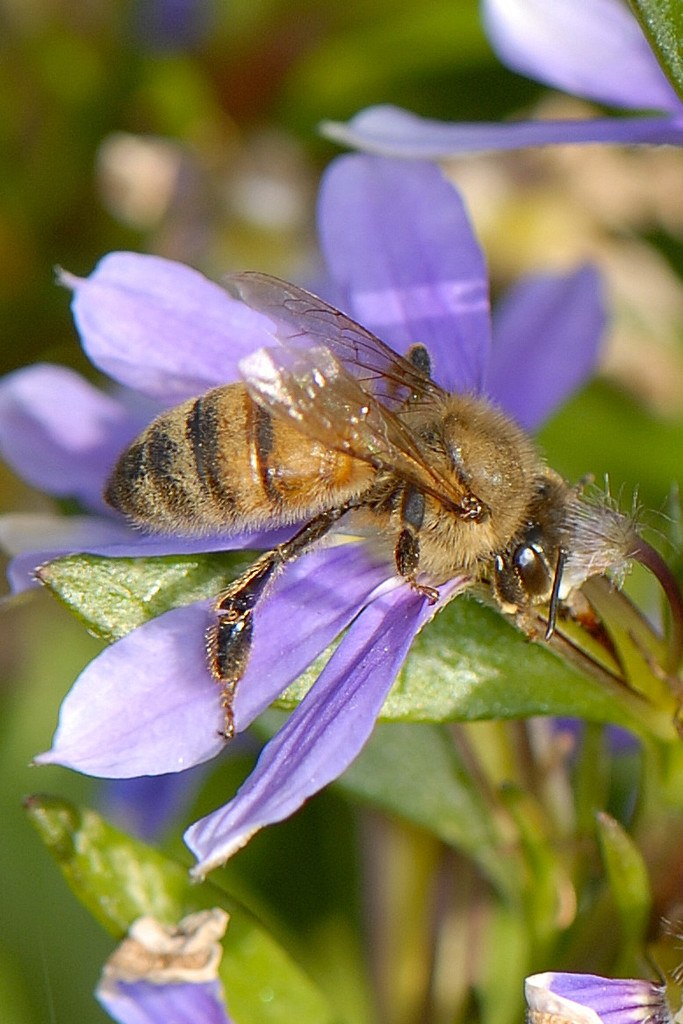bee: (100, 262, 680, 735)
insect: (0, 97, 649, 870)
